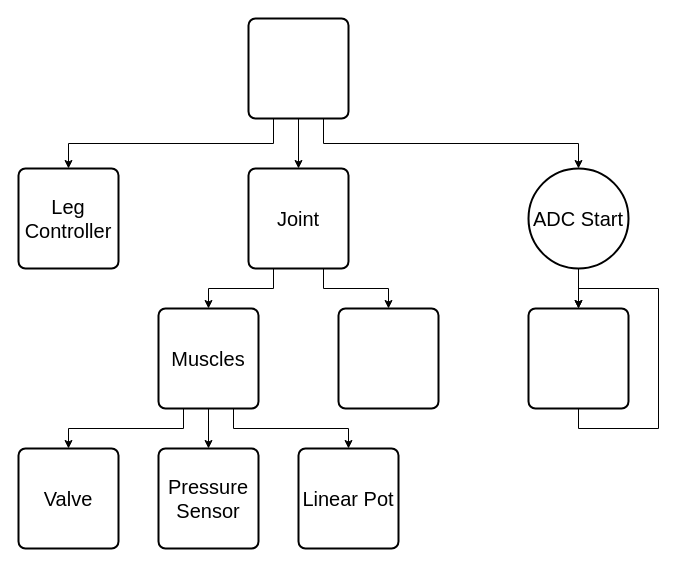
The diagram is 684 pixels wide and 566 high, and some of its shapes have lost their labels. Each missing label, with the centre of its shape:
"ADC DMA" belongs at (578,358).
"Joint Controller" belongs at (388,358).
"Main" belongs at (298,68).
